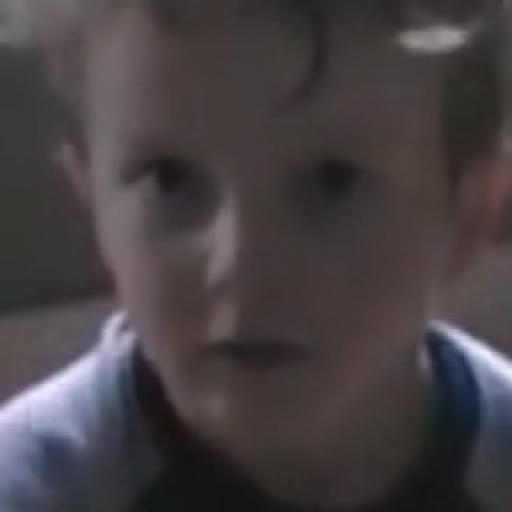Autism: (66, 25, 512, 480)
